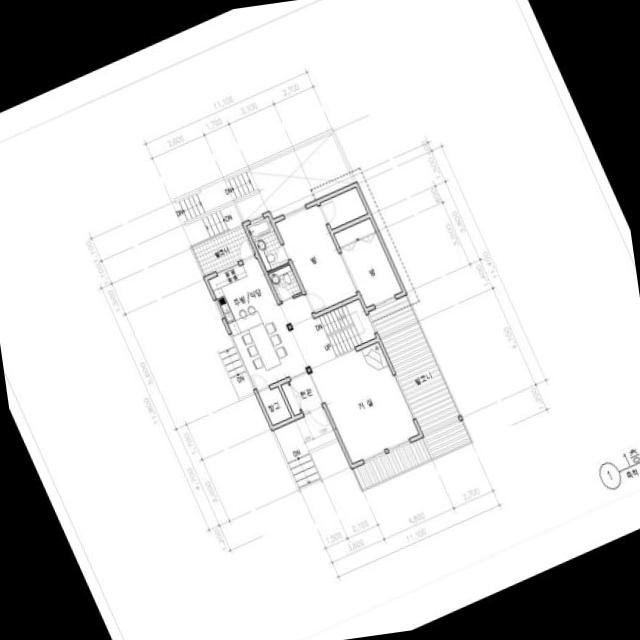background: (0, 0, 640, 640)
space_balconi: (191, 224, 255, 276)
space_bedroom: (275, 204, 356, 312), (333, 218, 402, 307)
space_dressroom: (320, 187, 367, 229)
space_front: (289, 373, 322, 412), (281, 382, 301, 415)
space_kitchen: (208, 257, 307, 390)
space_living_room: (278, 294, 418, 463)
space_other: (273, 408, 337, 461), (259, 386, 291, 425)
space_staircase: (175, 170, 258, 221), (314, 299, 376, 357), (185, 204, 241, 244), (217, 344, 255, 401), (287, 451, 321, 491)
space_toilet: (246, 216, 288, 271), (268, 264, 301, 301)
